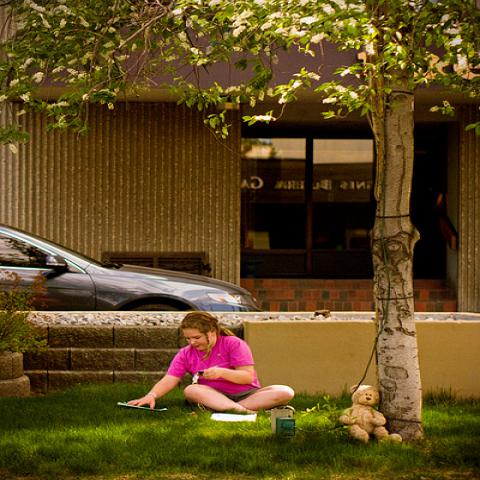car: (0, 222, 264, 312)
